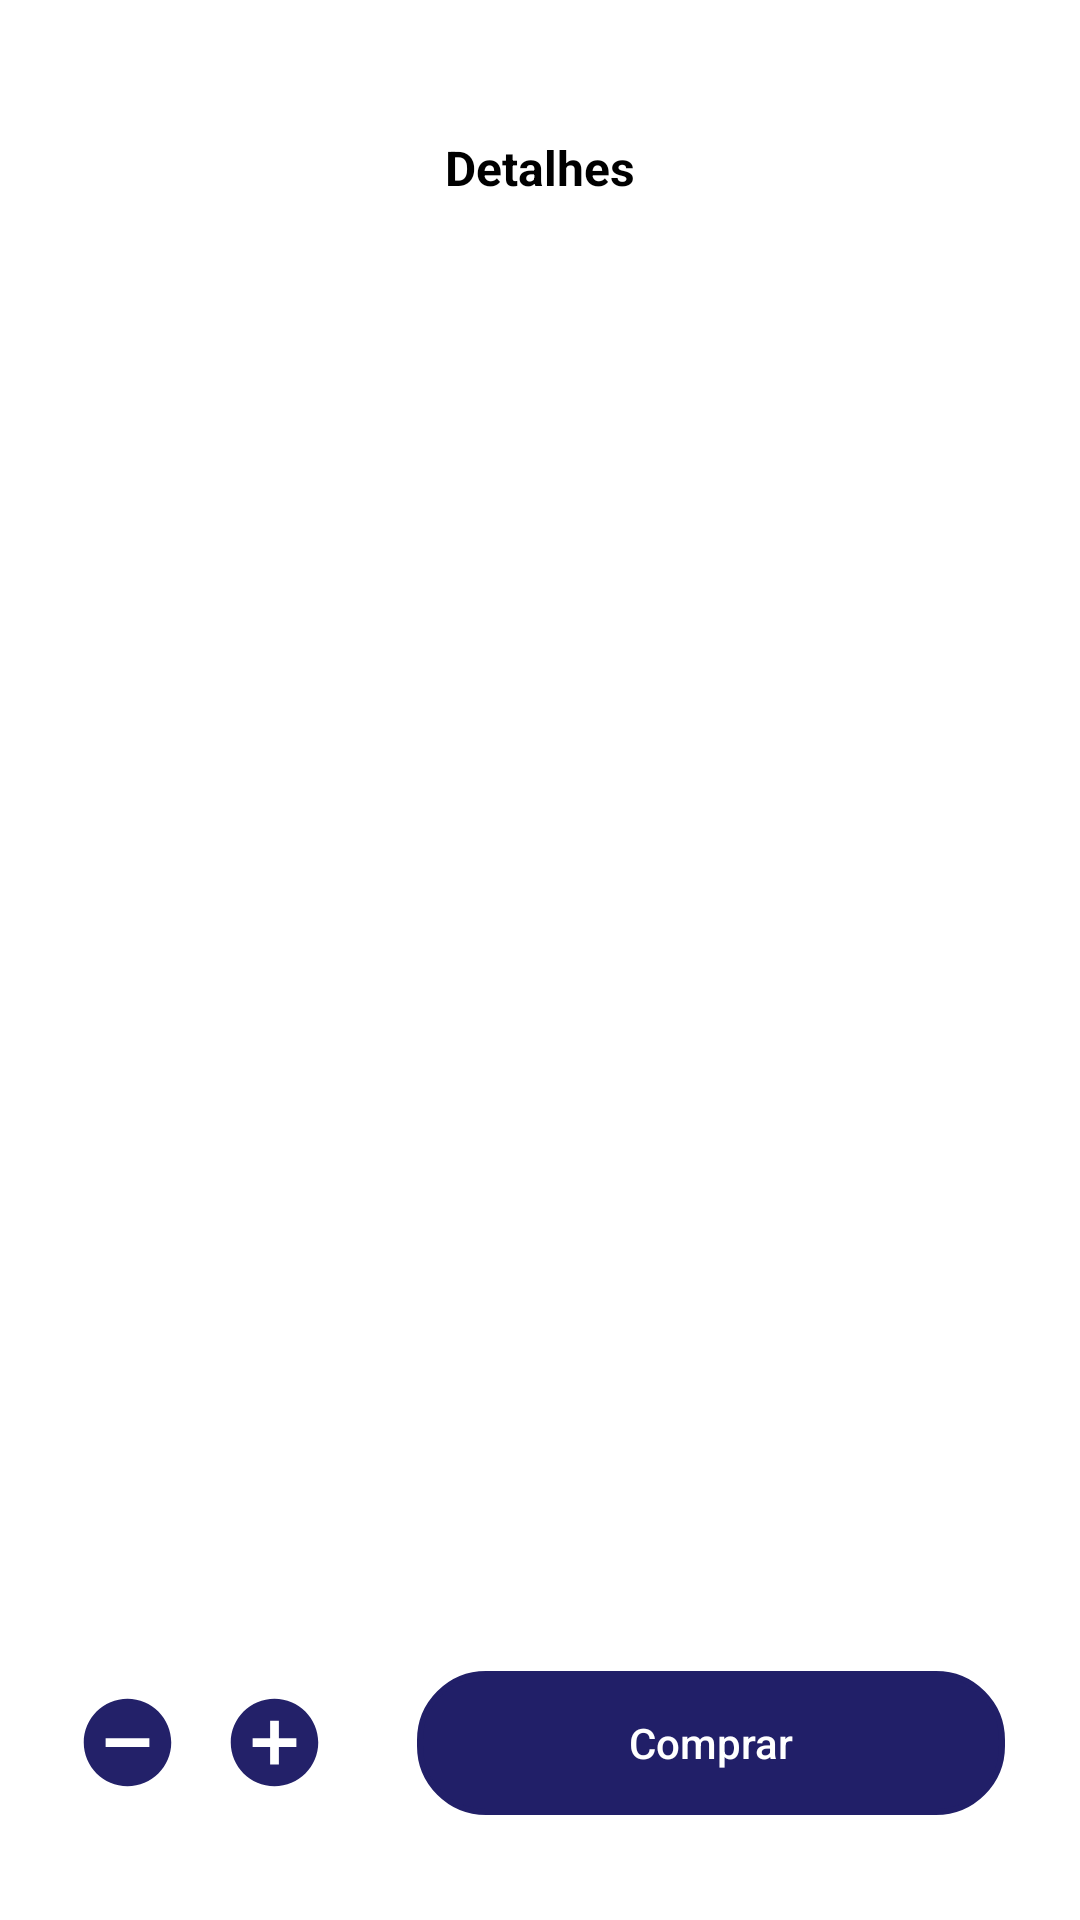

Locate icon controls on the screen. Image size 1080px×1920px, boxes as (x1, y1, x2, y2).
adicionar: (230, 1698, 319, 1787)
remover: (83, 1698, 172, 1787)
